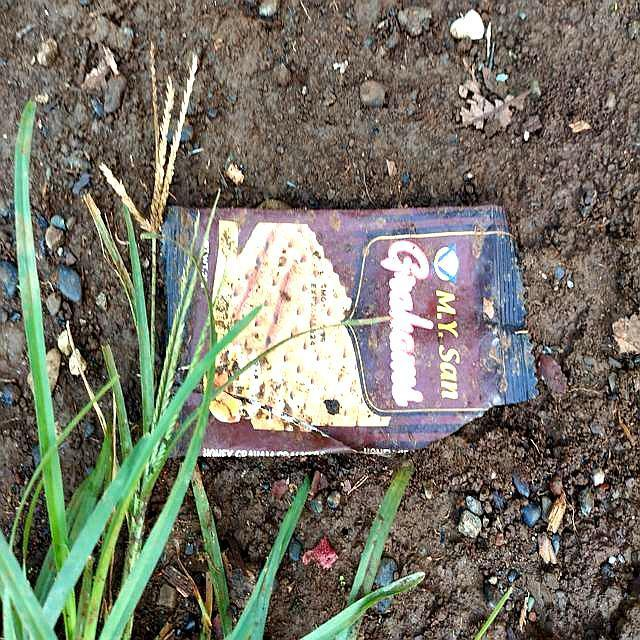Non-biodegradable: (158, 202, 540, 457)
